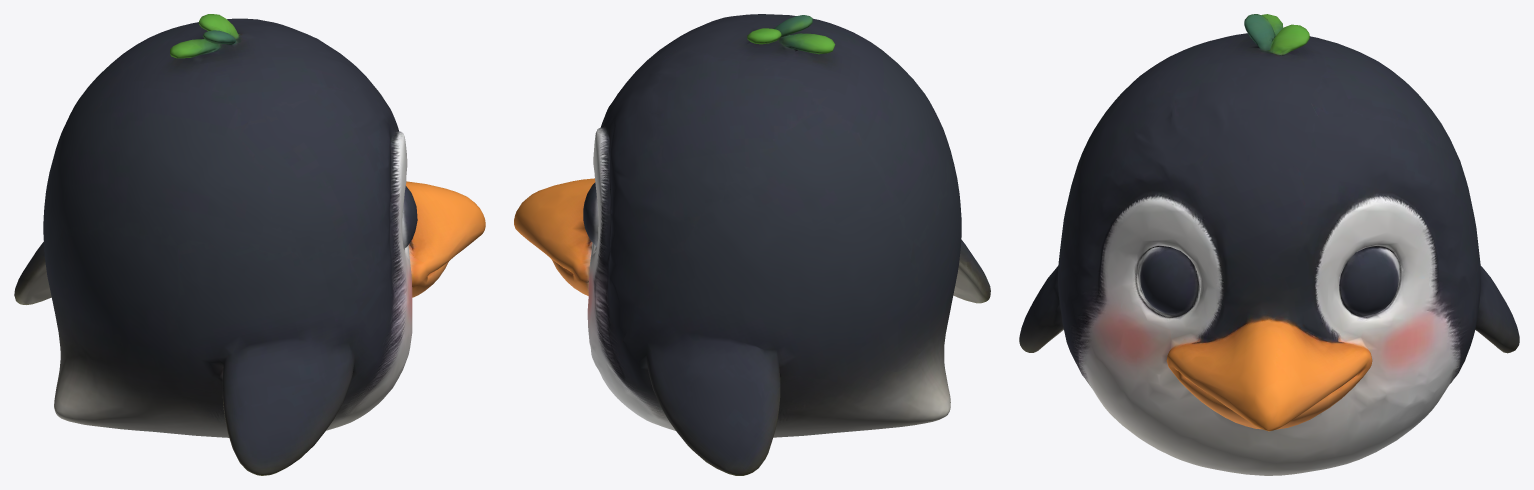
Rendered from head.glb.
3 renders of one model, left to right at view 1: azimuth 30°, elevation 25°; view 2: azimuth 150°, elevation 25°; view 3: azimuth 270°, elevation 25°, orthographic. The views are drawn at different scales.
Visible parts, largest first — view 1: tripo_node_a7a629aa-f7b1-4f1f-971e-9a520310d726; view 2: tripo_node_a7a629aa-f7b1-4f1f-971e-9a520310d726; view 3: tripo_node_a7a629aa-f7b1-4f1f-971e-9a520310d726.
Boxes of the visible parts, box(x1,y1,x2,y2) form: tripo_node_a7a629aa-f7b1-4f1f-971e-9a520310d726: box(14, 14, 485, 475); tripo_node_a7a629aa-f7b1-4f1f-971e-9a520310d726: box(514, 14, 990, 475); tripo_node_a7a629aa-f7b1-4f1f-971e-9a520310d726: box(1019, 14, 1519, 475).
Bounding box in the file's own units: 1 × 0.8767 × 0.9892.
1 material, 1 textured.
